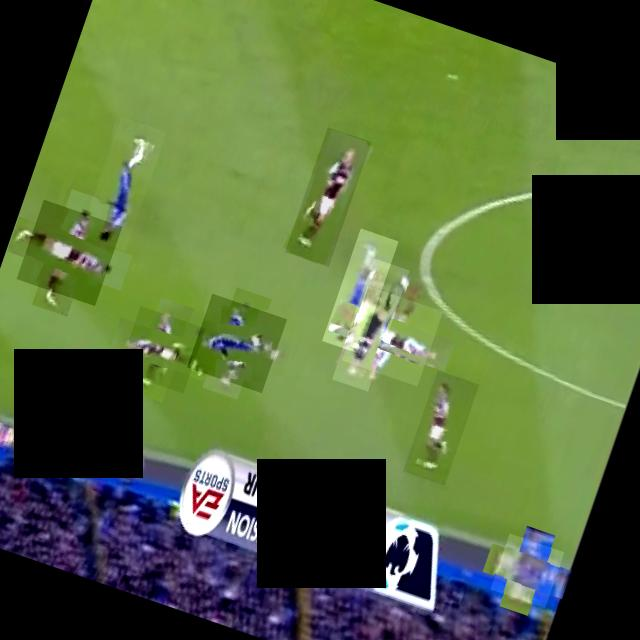referee: (331, 258, 409, 391)
soccer-player: (284, 126, 370, 266), (80, 115, 166, 250), (16, 200, 122, 306), (342, 285, 442, 386), (320, 228, 398, 354), (186, 294, 286, 392), (402, 370, 478, 485), (117, 306, 205, 394), (489, 533, 564, 608)
